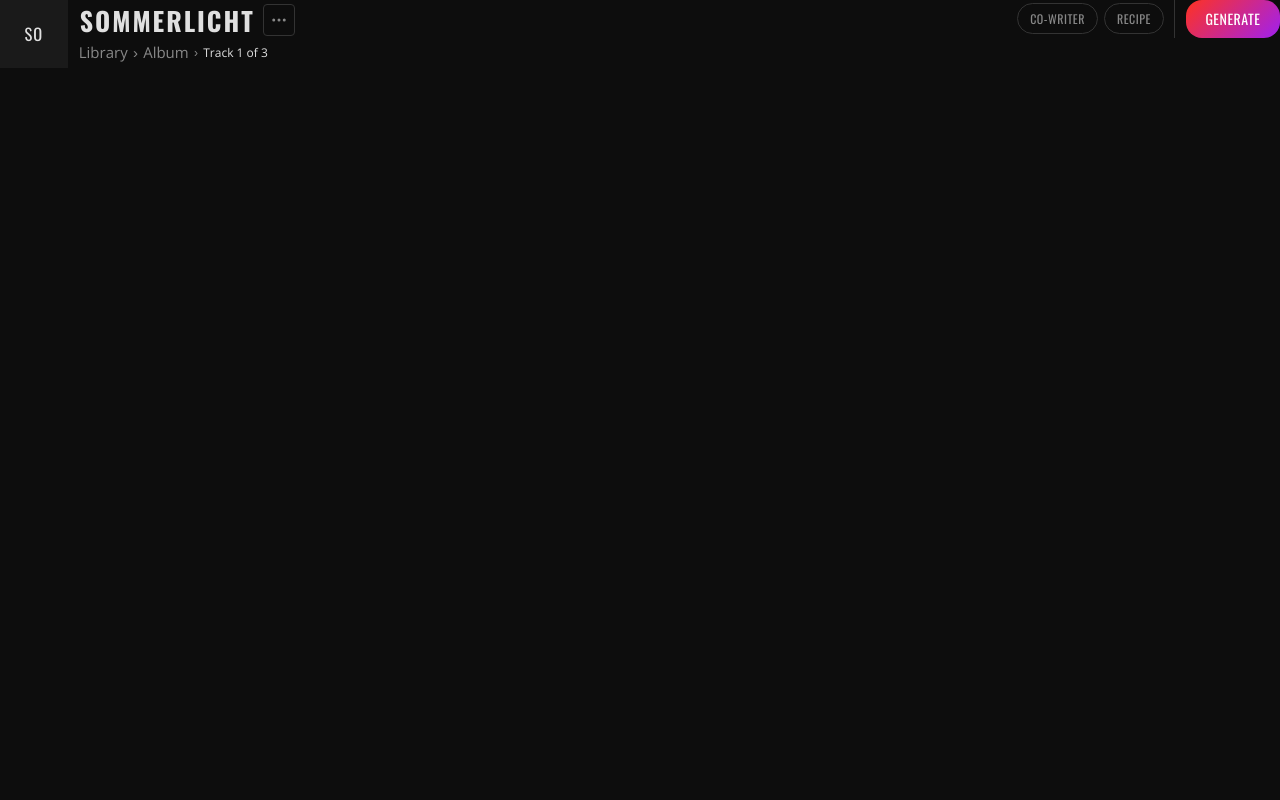
EditorHeader › opens the song menu whose first row names the song
Click the button with class "menu-trigger": (279, 20) [263,4,295,36]
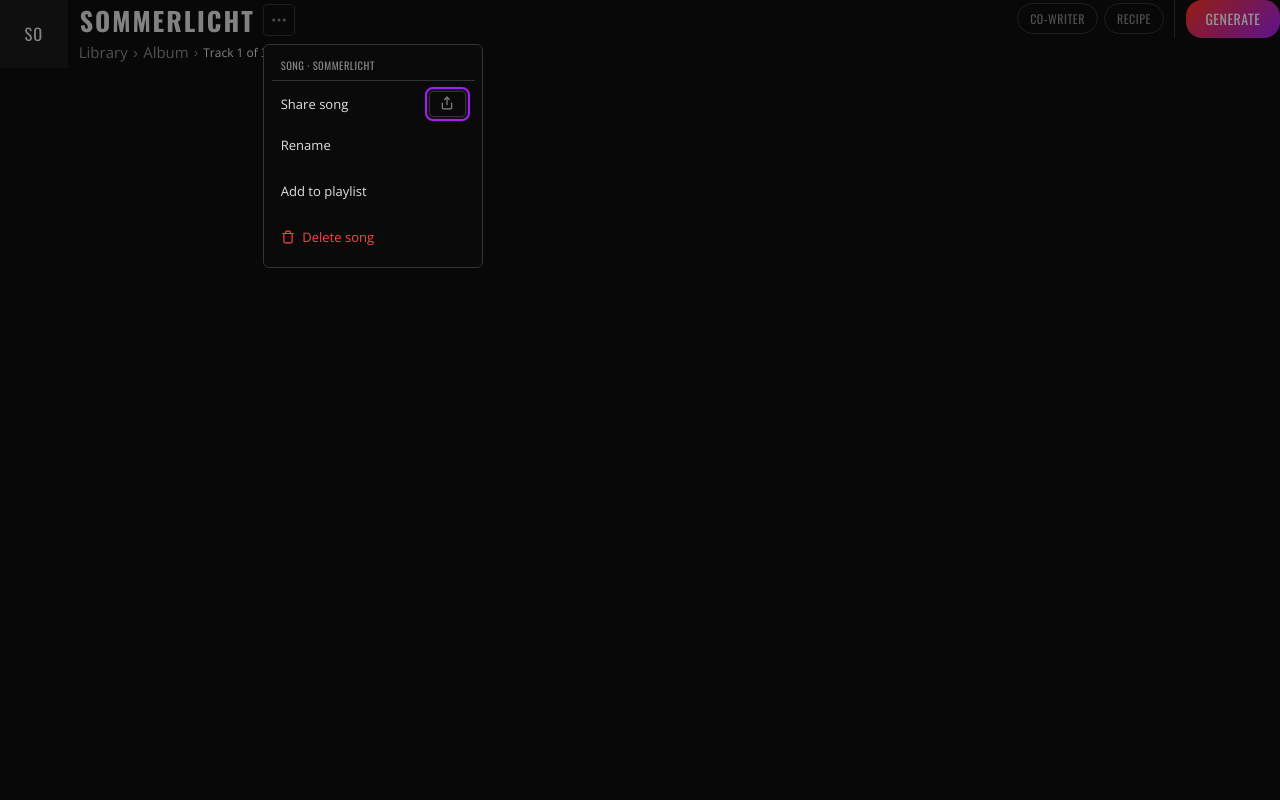
Expected: the text with class "menu-heading" reads "Song · Sommerlicht", [281,56,375,72]
